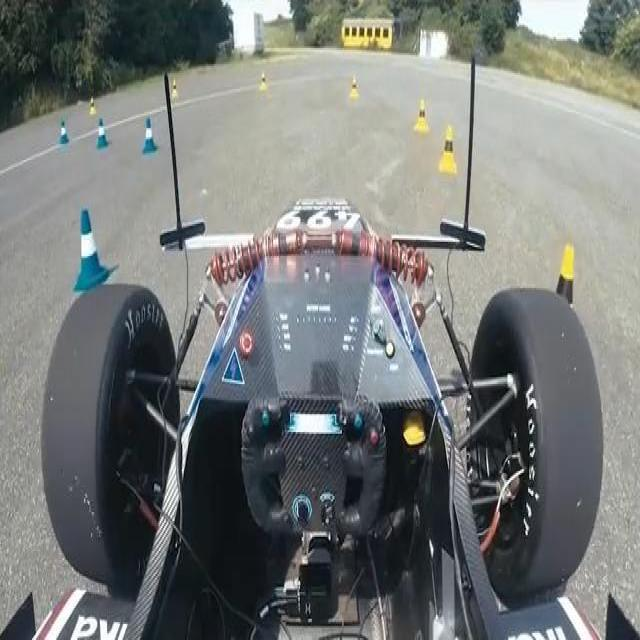blue_cone: (68, 203, 108, 295), (140, 114, 157, 158), (95, 116, 108, 151), (58, 117, 69, 147)
yellow_cone: (540, 247, 588, 399), (437, 123, 458, 175), (414, 98, 429, 132), (171, 78, 180, 102), (258, 68, 267, 92), (350, 75, 359, 99), (89, 96, 96, 117)
